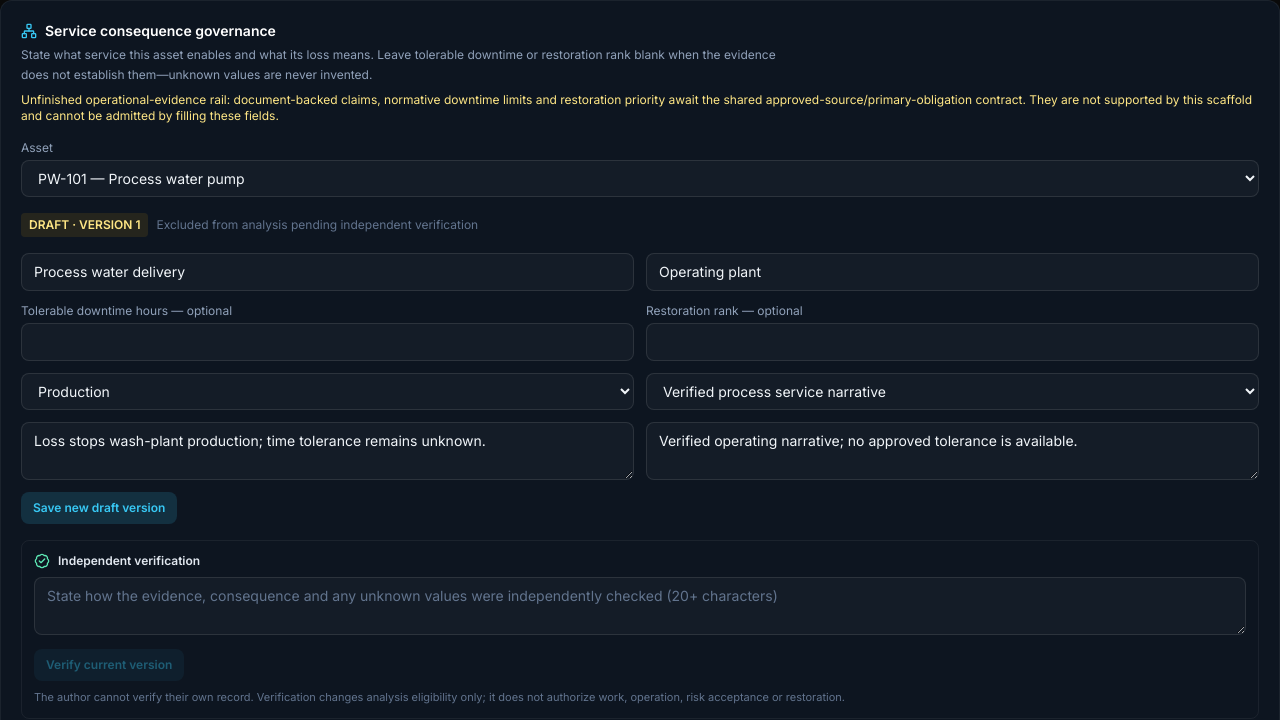
Scenario: ServiceLevelGovernancePanel › treats a lost write acknowledgement as unknown and reconciles read-only without replay
Later steps or results of the test are not shown.
Expected: the text "Excluded from analysis pending independent verification" is shown, [156,217,478,233]
Expected: the field named "Service name" holds "Process water delivery", [21,253,634,291]
Replace the text in the text box named "Independent review note" with "Independent review against the exact current draft basis." at (640, 606), box [34,577,1246,635]
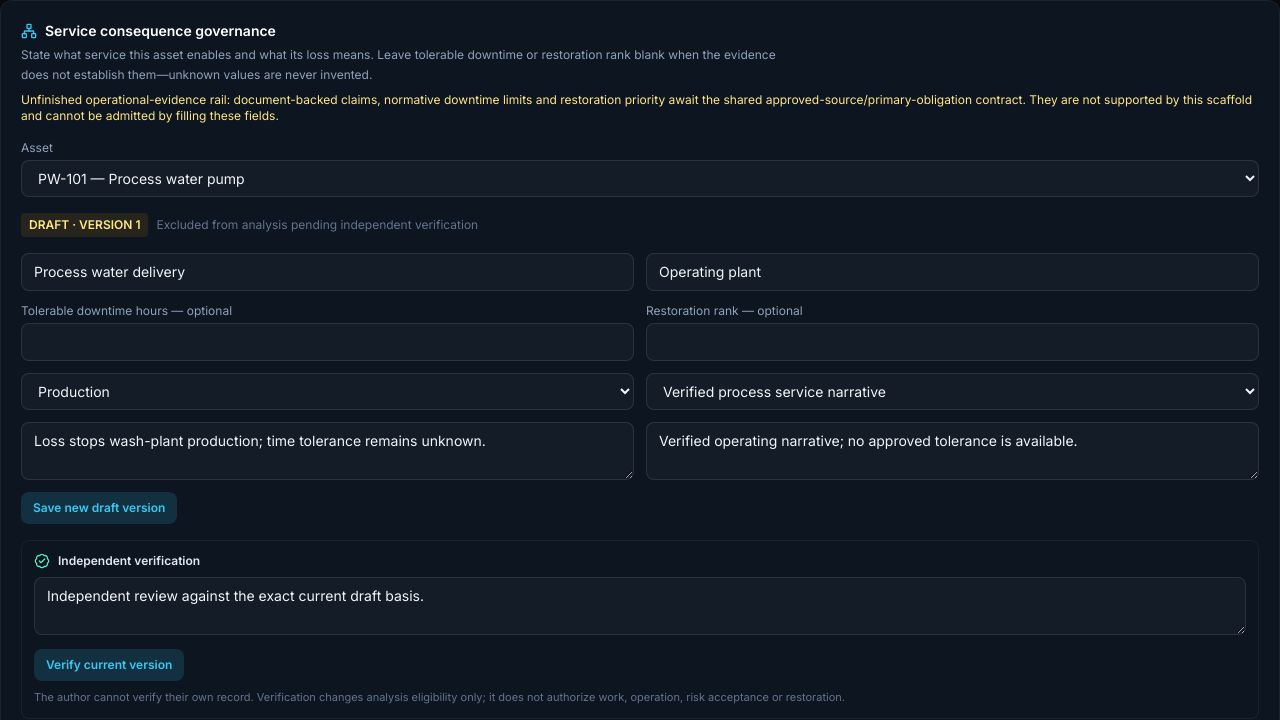
Click the button "Verify current version".
click(109, 665)  # box [34,649,184,681]
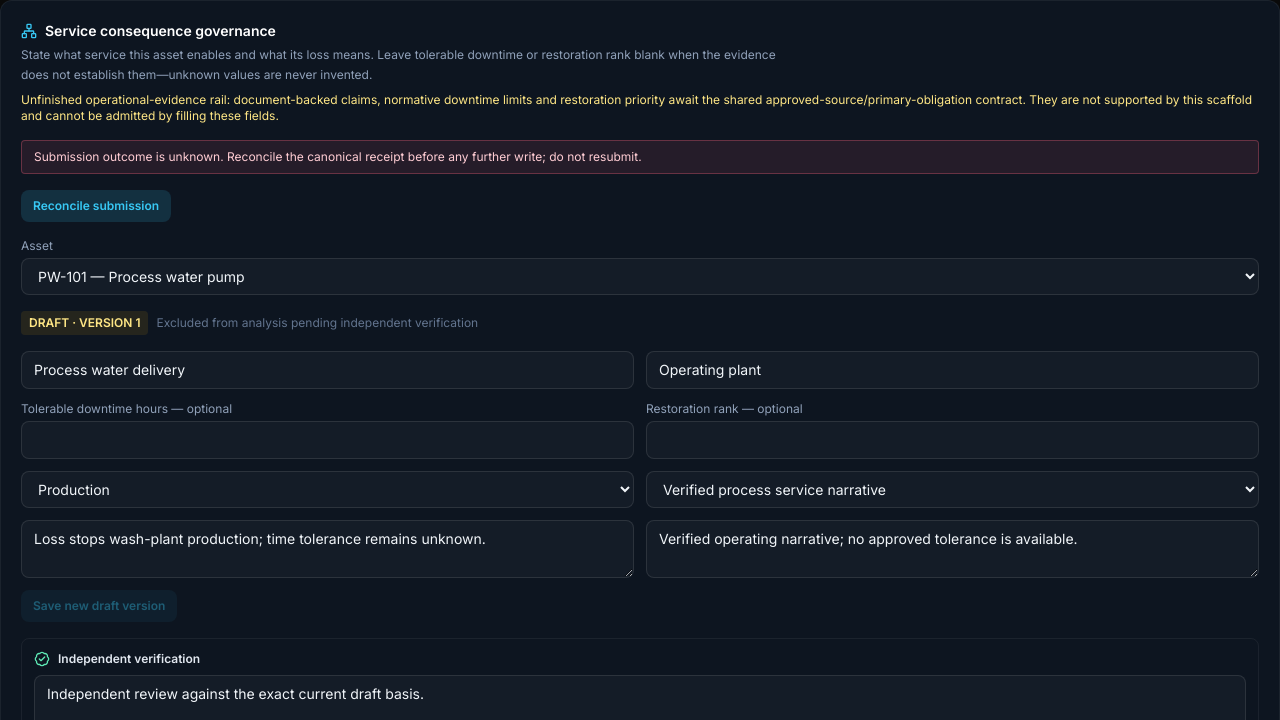
Expected: the text "outcome is unknown" is shown, [34,149,642,164]
